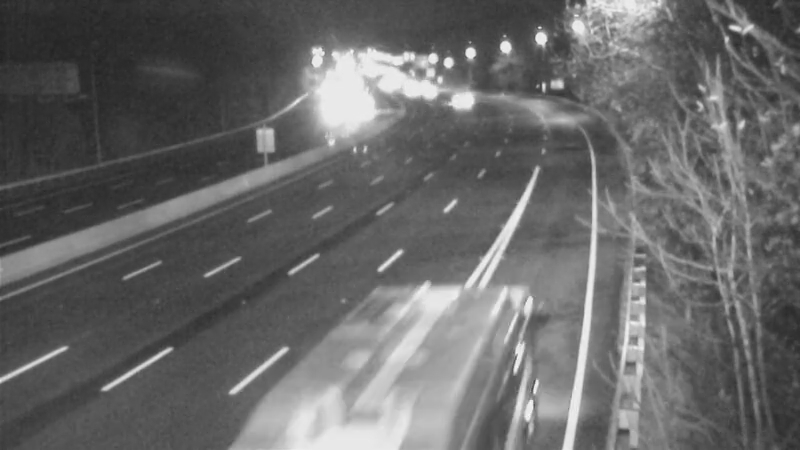vehicle: (316, 355, 426, 450), (429, 73, 479, 123), (309, 87, 359, 137)
